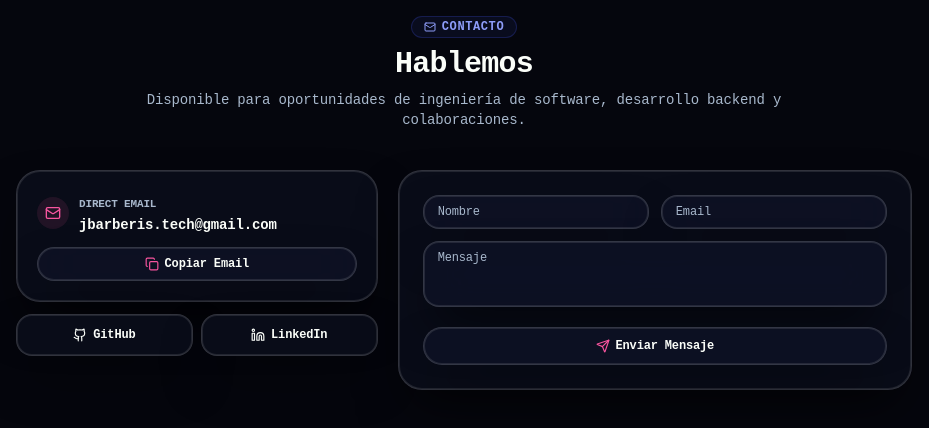
Test: Contact Component (src/components/Contact.tsx) › Form Validation › validates that name must be at least 2 characters
This screenshot has width=929, height=428.
Type "A" into the field with placeholder "Nombre".
click(536, 212); type("A")  # box [423,195,649,229]
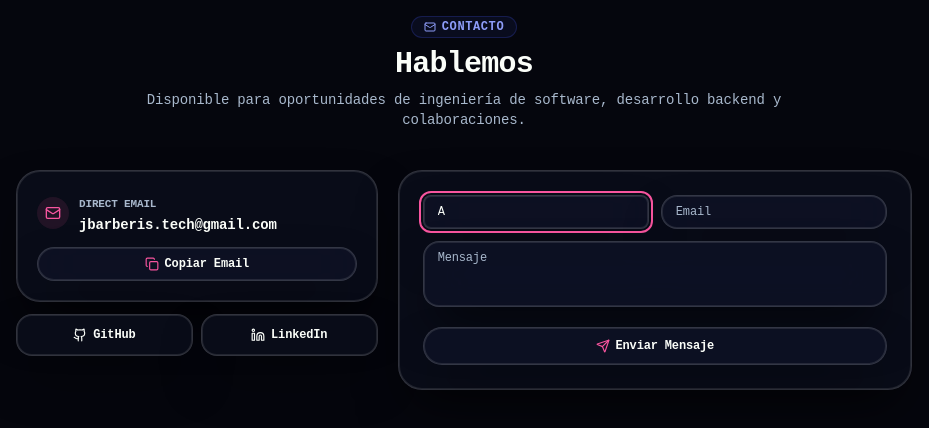
Type "test@example.com" into the field with placeholder "Email".
click(774, 212); type("test@example.com")  # box [661,195,887,229]
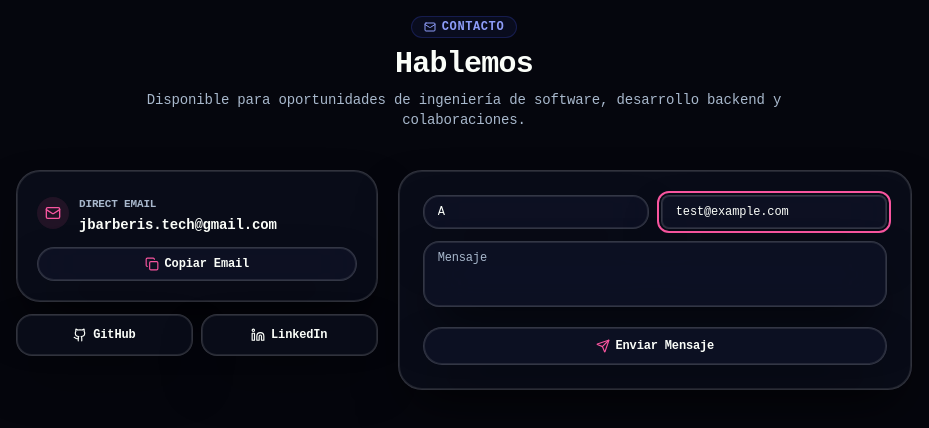
Type "This is a valid long enough message." into the text box with placeholder "Mensaje".
click(655, 274); type("This is a valid long enough message.")  # box [423,241,887,307]
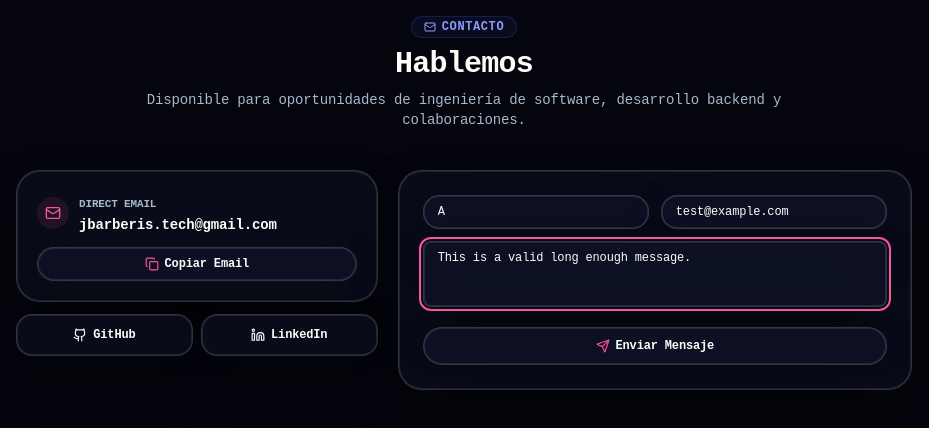
Click the button "Enviar Mensaje".
click(655, 346)  # box [423,327,887,365]
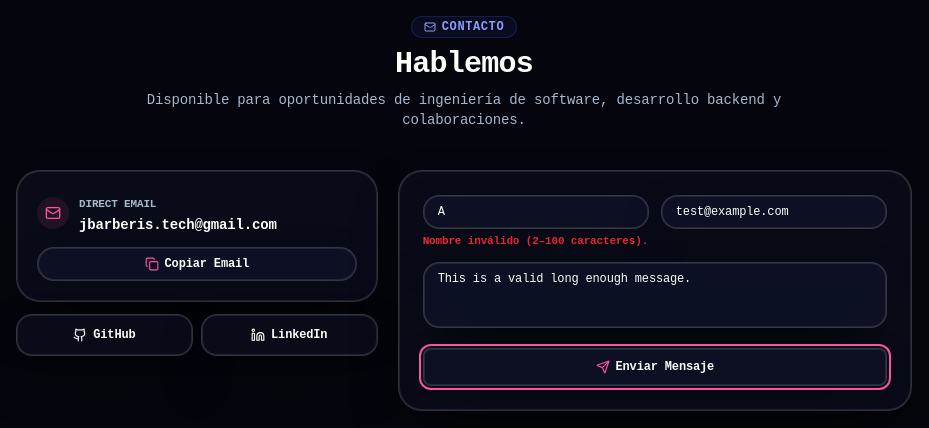
expect the text "Nombre inválido (2–100 caracteres)." is shown: met, box [423,233,649,250]
